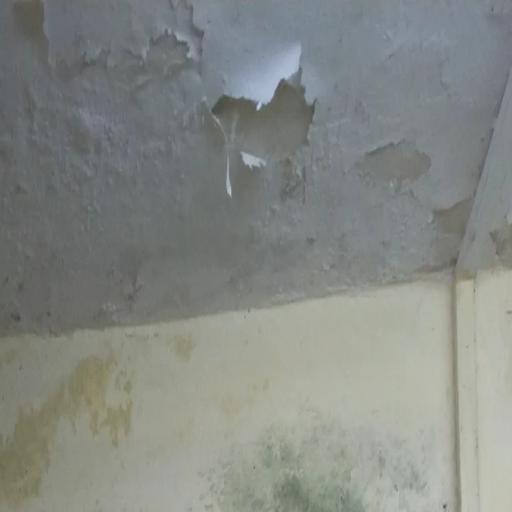peeling: (350, 122, 512, 266), (34, 17, 235, 131), (209, 43, 340, 212)
